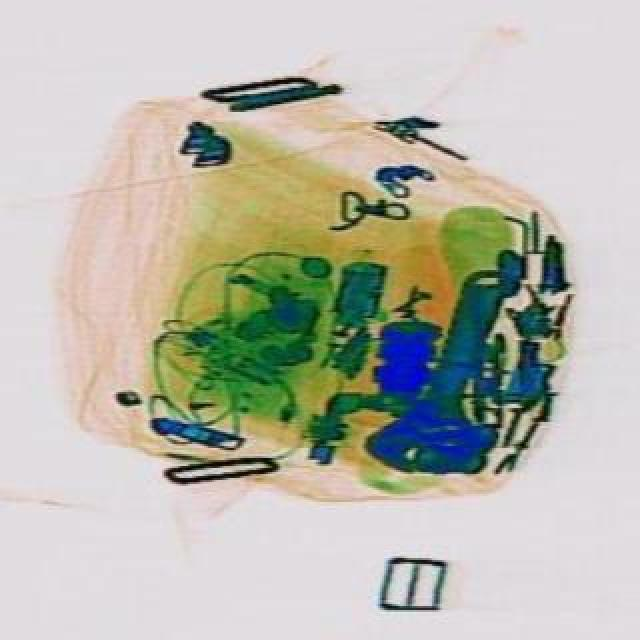scissors: (356, 248, 542, 488)
